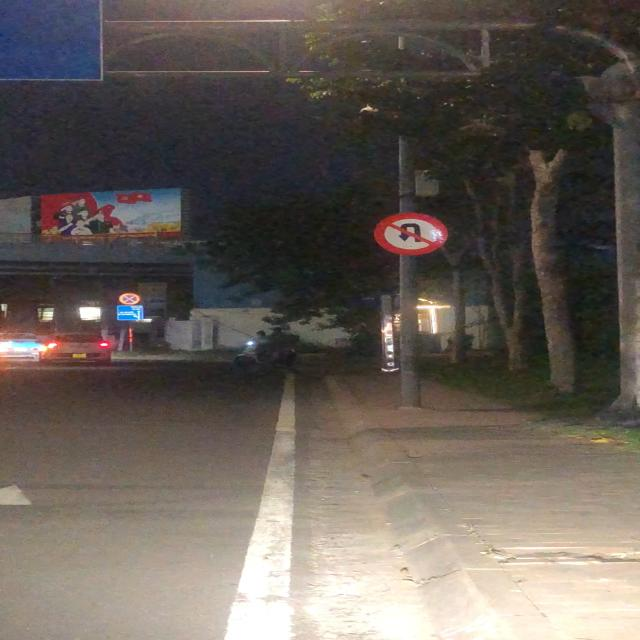Bien bao cam dung xe va do xe: (116, 292, 144, 306)
Bien bao cam quay dau xe: (370, 210, 454, 258)
